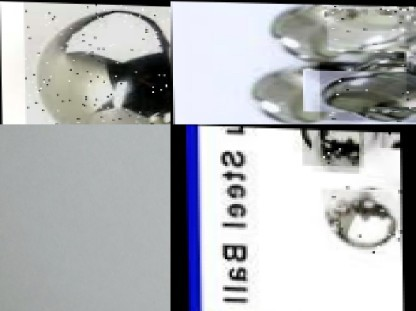ironball: (23, 0, 170, 124), (236, 60, 365, 124), (254, 1, 378, 62), (318, 60, 415, 120), (325, 181, 401, 253), (326, 3, 415, 50), (302, 128, 364, 164), (404, 26, 415, 99), (379, 130, 400, 145)
